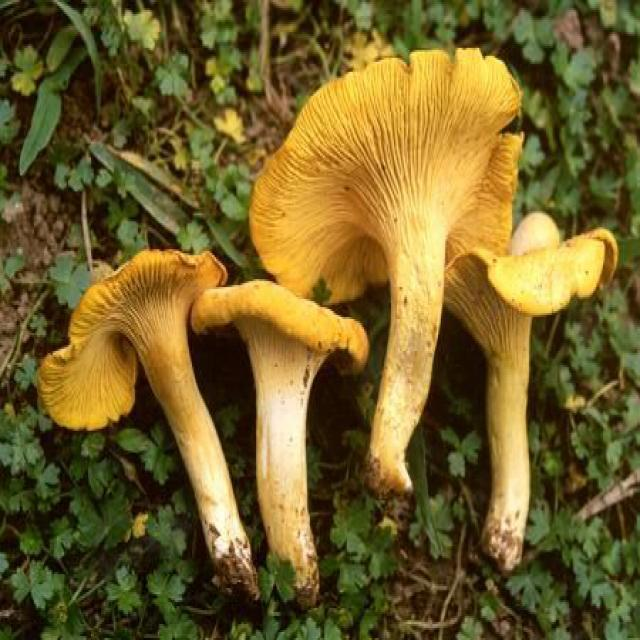Cantharellus cibarius: (251, 50, 522, 506), (43, 248, 256, 605), (428, 212, 618, 567), (191, 277, 369, 614)
